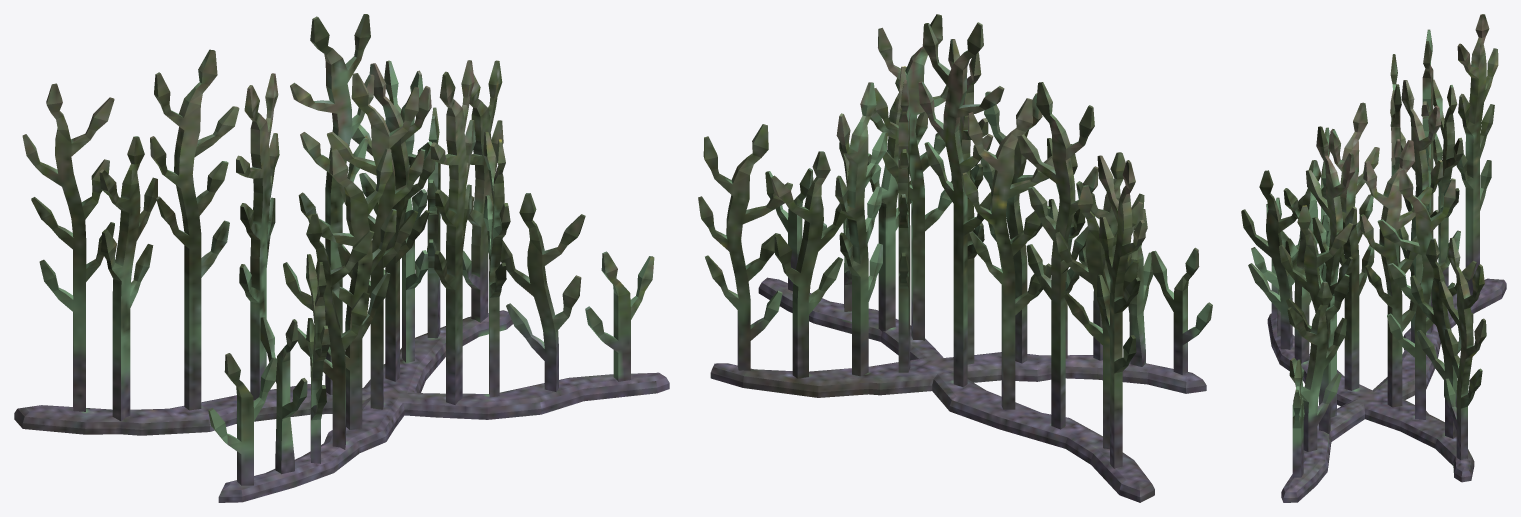
3 renders of one model, left to right at view 1: azimuth 30°, elevation 25°; view 2: azimuth 150°, elevation 25°; view 3: azimuth 270°, elevation 25°, orthographic. The views are drawn at different scales.
Size of the model in its own units: 7.17 by 5.13 by 3.73.
1 material, 1 textured.
